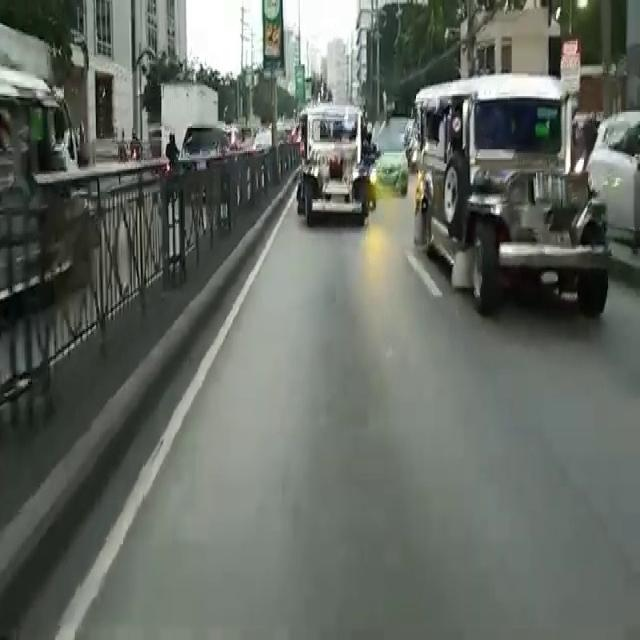car: (177, 126, 232, 195)
jeepney: (412, 86, 599, 324), (0, 77, 99, 302), (277, 104, 361, 243)
motorcycle: (159, 135, 179, 211)
truck: (157, 86, 213, 164)
